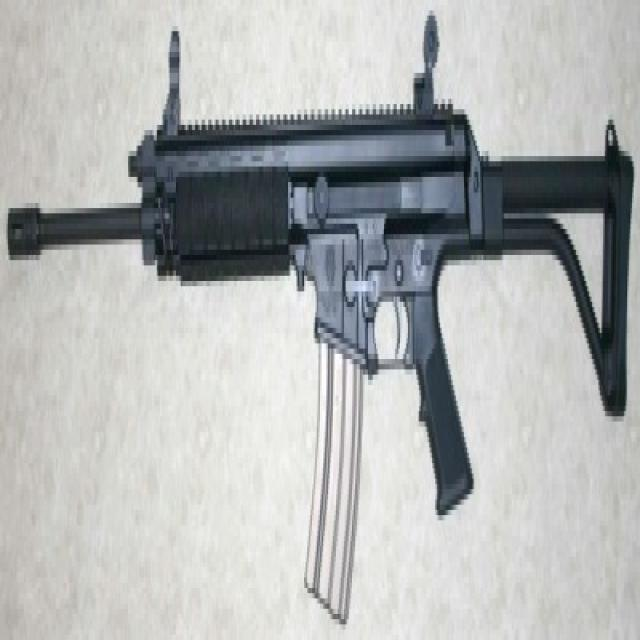rifle: (1, 16, 634, 640)
